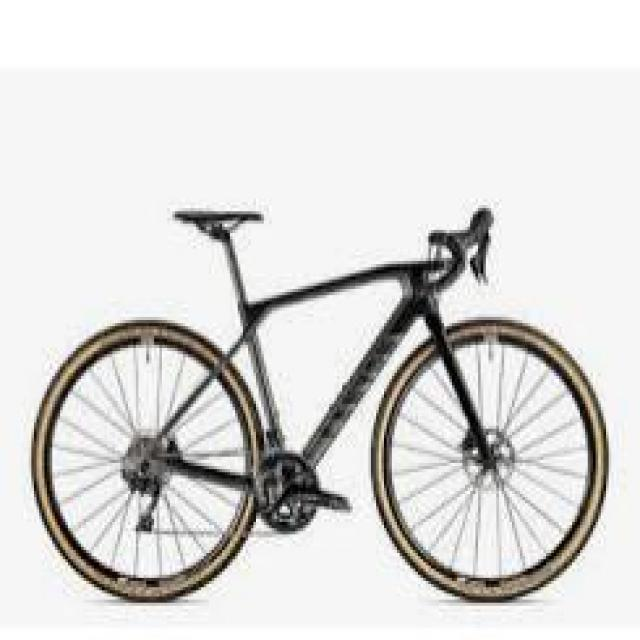bicycle: (66, 206, 620, 598)
